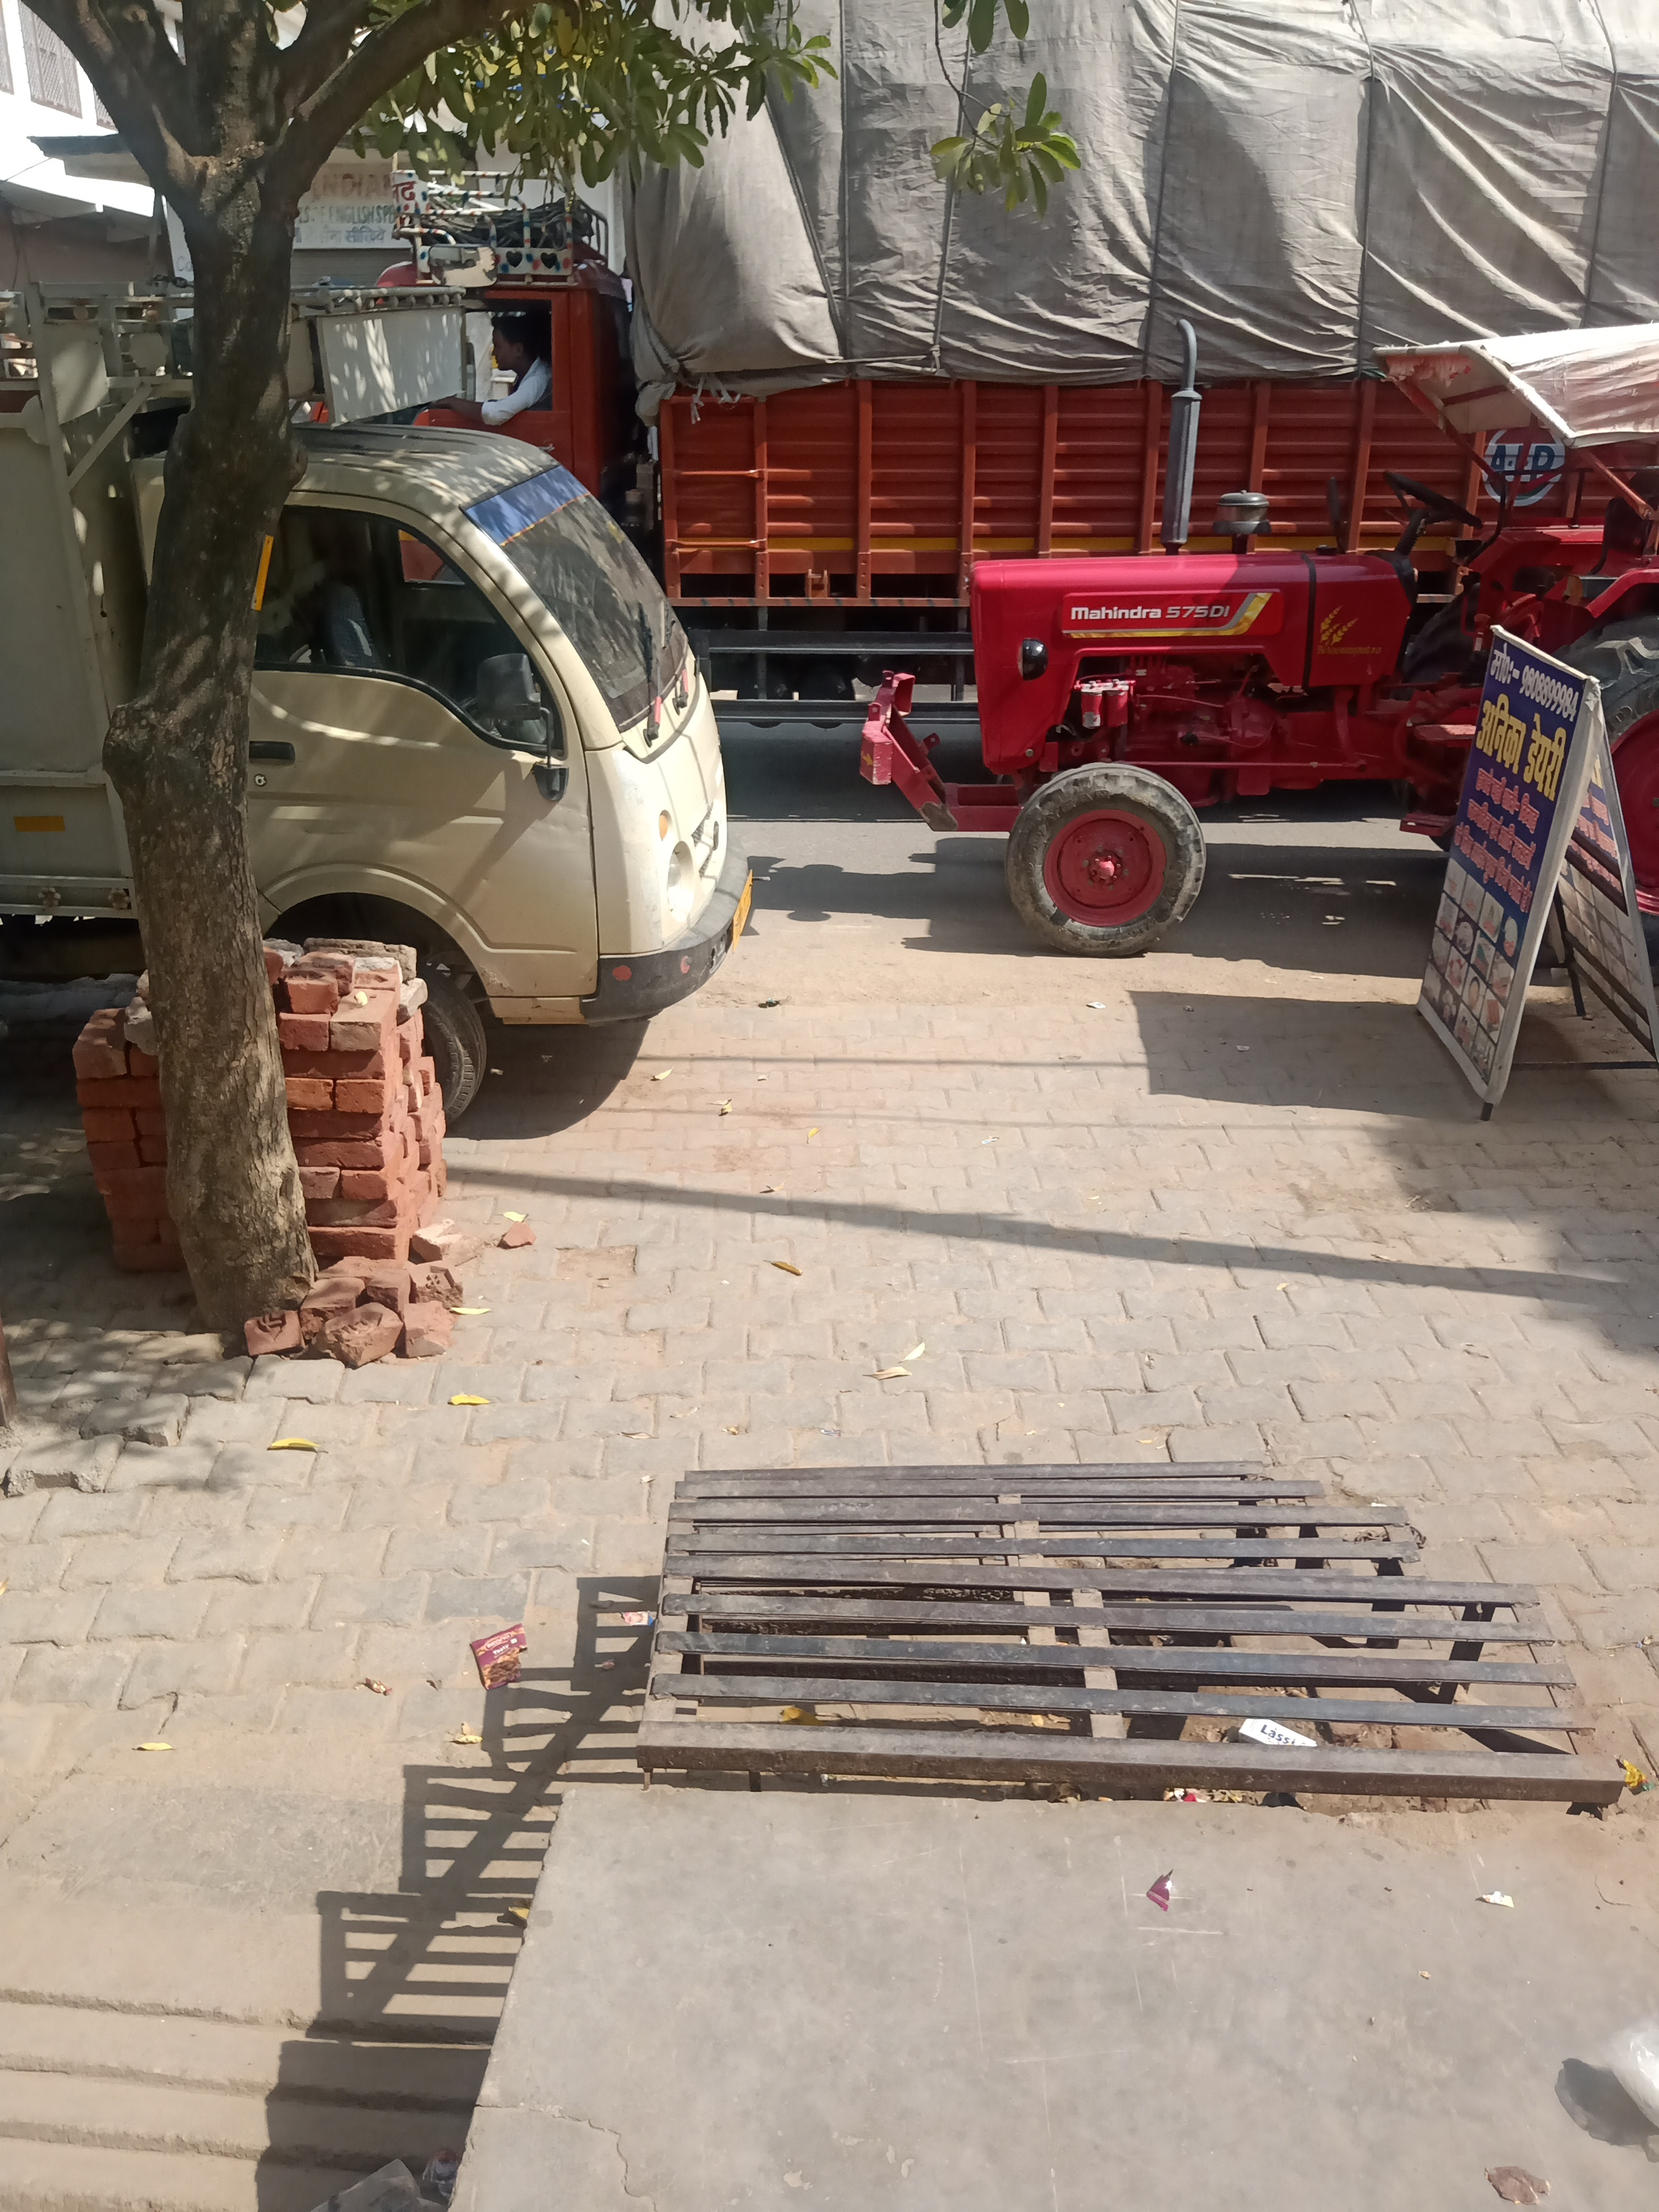truck: (854, 314, 1659, 1000)
